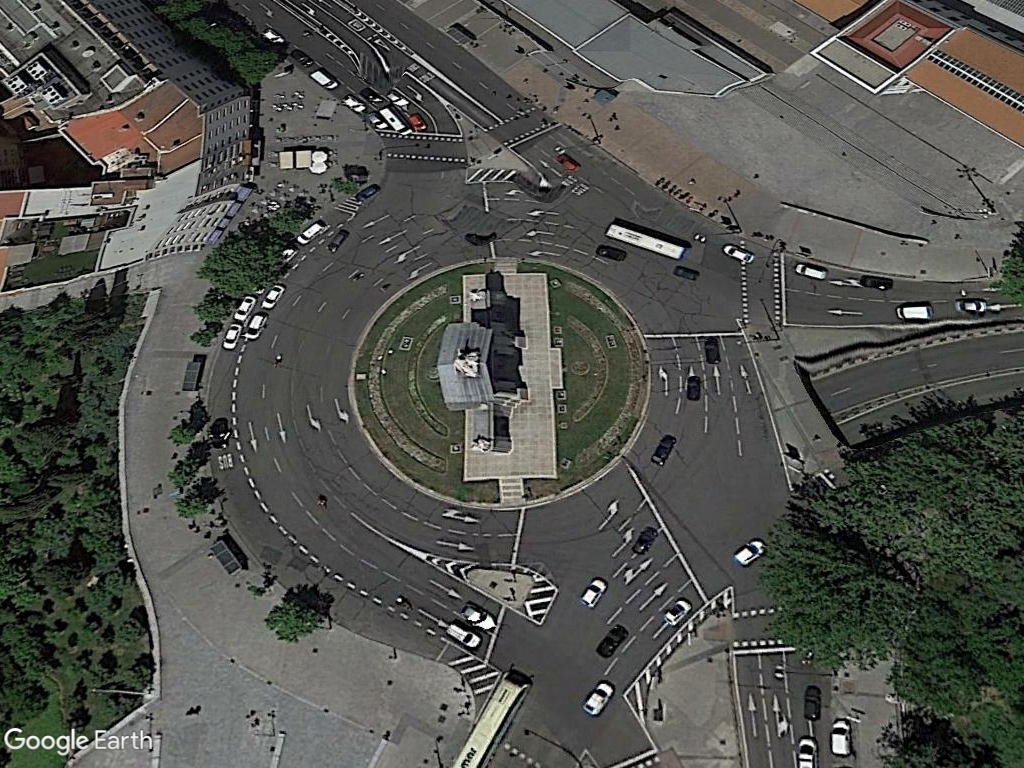bus: (602, 219, 686, 260)
car: (721, 240, 756, 265), (953, 297, 989, 314)
van: (441, 622, 485, 652), (829, 713, 854, 759), (893, 301, 936, 322), (308, 66, 341, 91)
